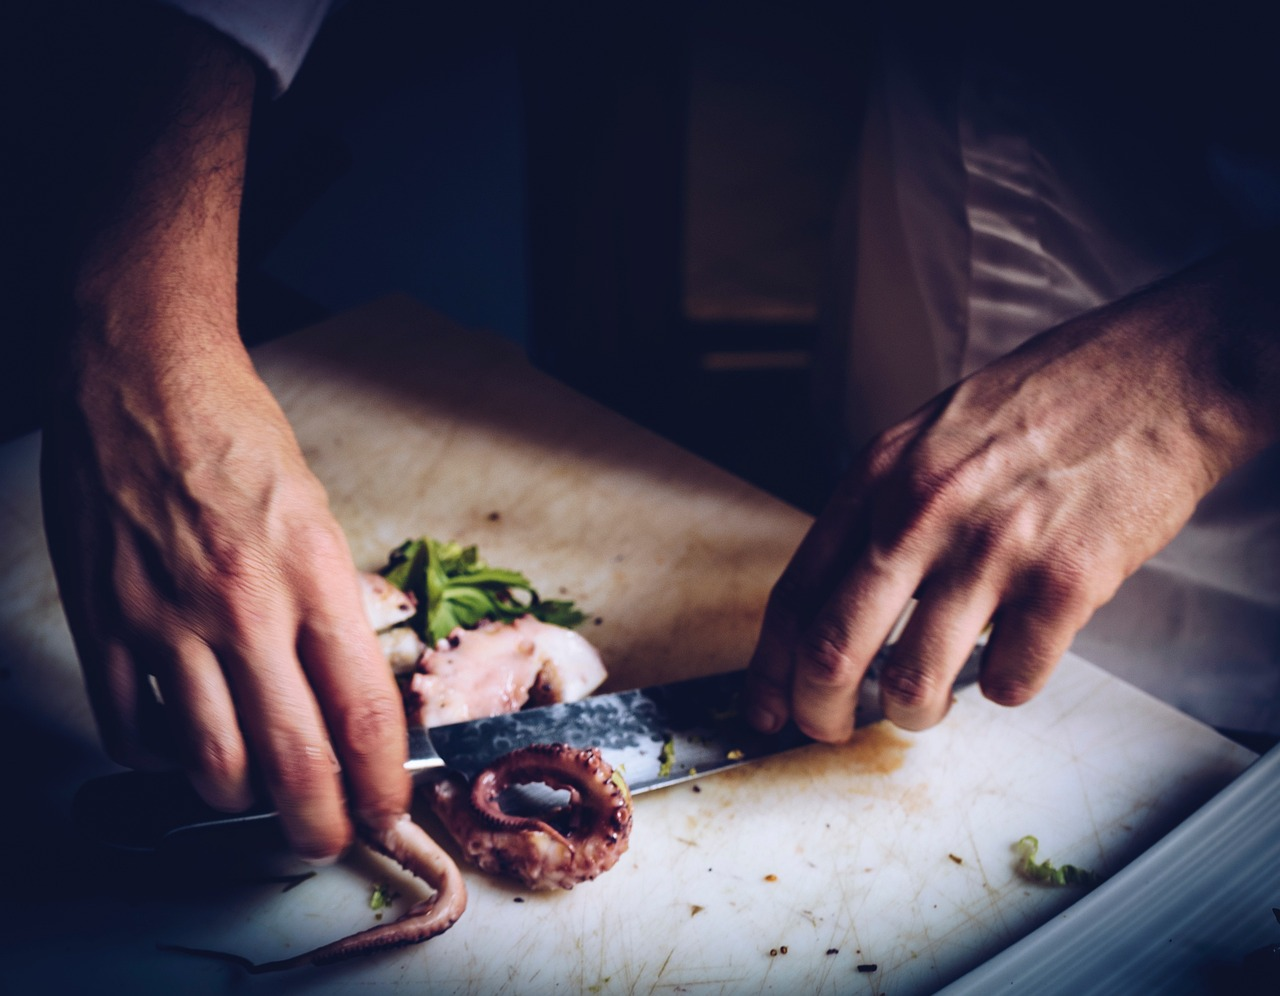knife: (55, 631, 1032, 901)
